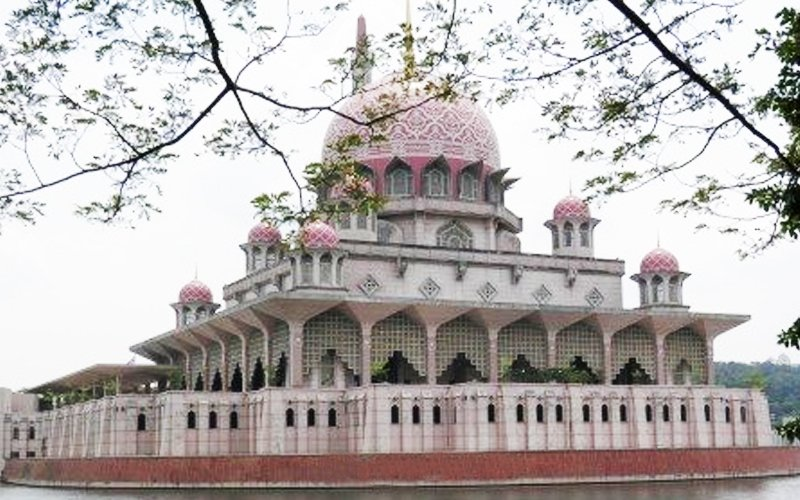Mosque: (161, 15, 688, 443)
